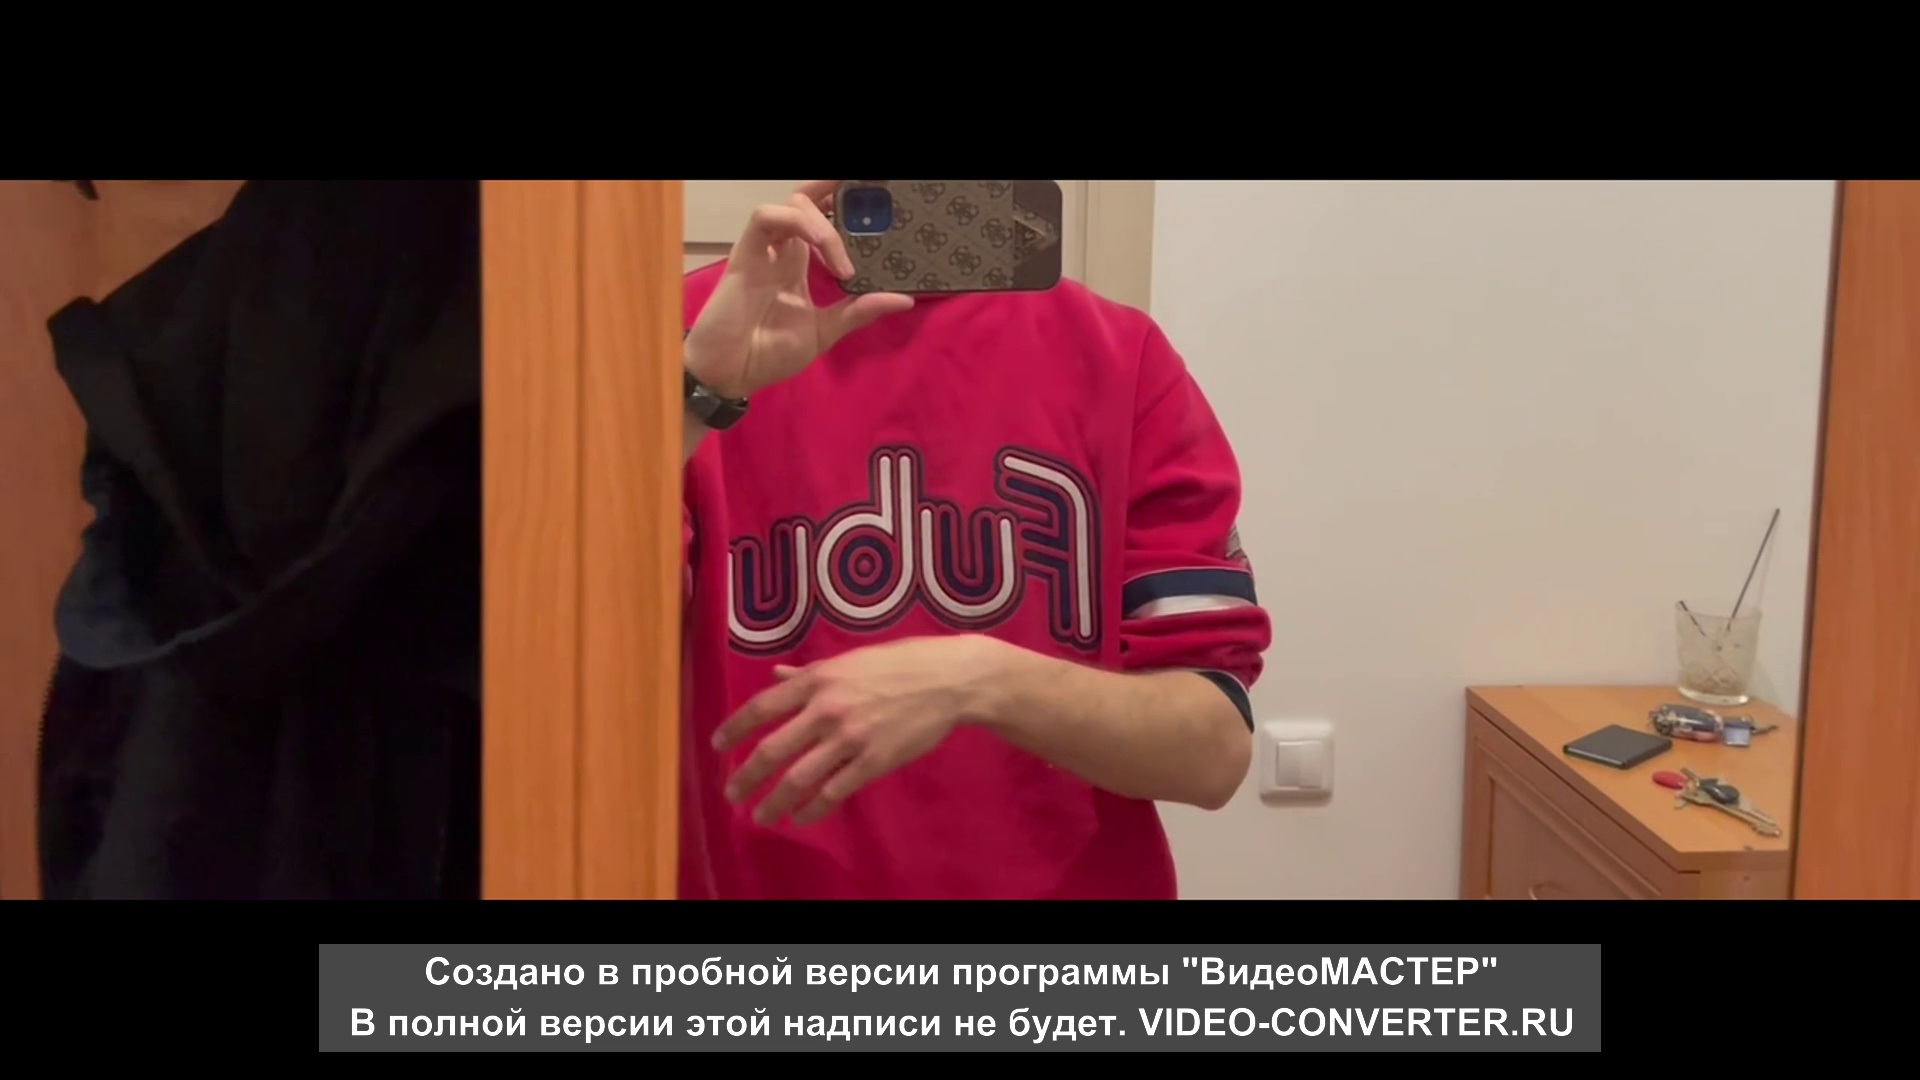Кисть: (713, 633, 959, 832)
